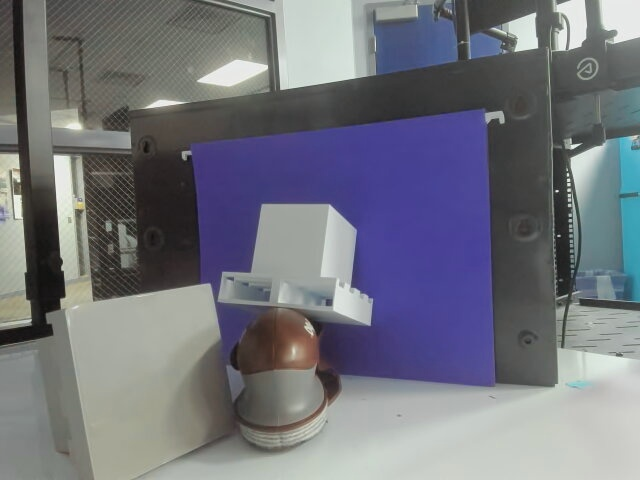grey pallet: (20, 277, 264, 480)
white pallet: (214, 197, 387, 328)
